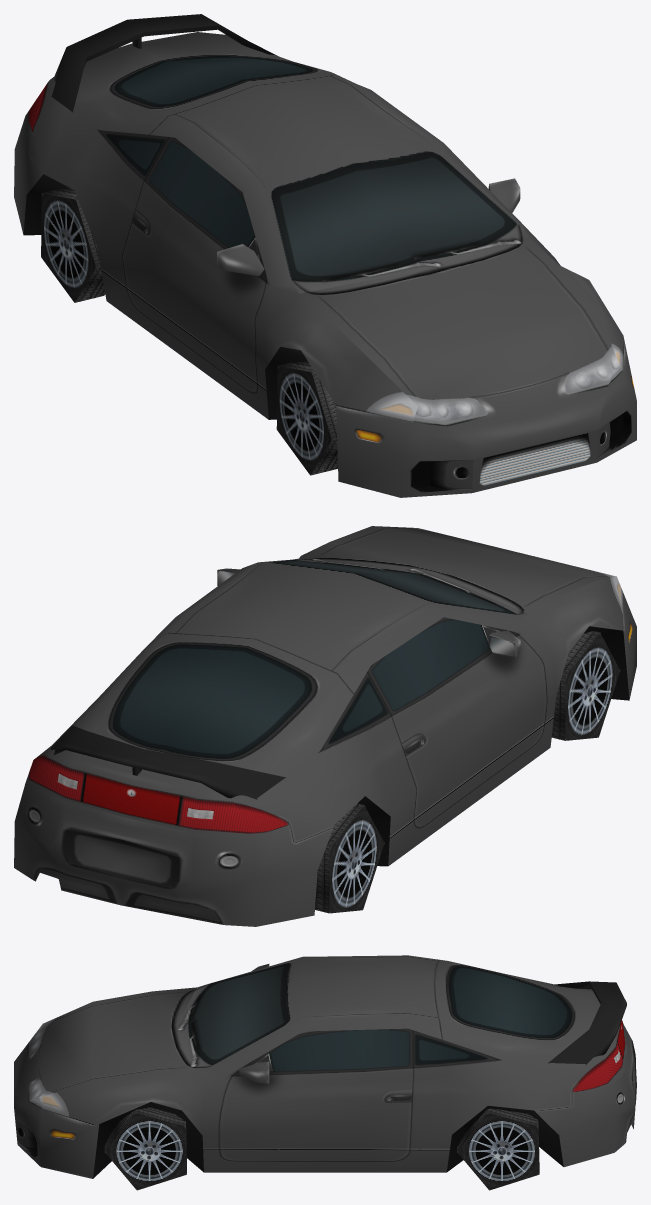
File: ModernStreetVehicle_LOD2.fbx
3 views of the same model, one above another, from view 1: azimuth 30°, elevation 25°; view 2: azimuth 150°, elevation 25°; view 3: azimuth 270°, elevation 25° (orthographic). The views are drawn at different scales.
Parts seen in each view (by area): view 1: Chassis, RF_Wheel, RR_Wheel; view 2: Chassis, RR_Wheel, RF_Wheel; view 3: Chassis, LF_Wheel, LR_Wheel.
Part boxes in pixels (x1,y1,x2,y2): Chassis: [14, 14, 636, 497]; RF_Wheel: [276, 361, 337, 475]; RR_Wheel: [41, 188, 105, 302]; Chassis: [14, 526, 636, 926]; RR_Wheel: [315, 803, 384, 913]; RF_Wheel: [551, 631, 620, 740]; Chassis: [14, 955, 636, 1178]; LF_Wheel: [104, 1107, 186, 1190]; LR_Wheel: [457, 1108, 539, 1190].
Size of the model in its own units: 2.07 by 1.41 by 5.02.
Materials: 2 (2 with a texture image).
